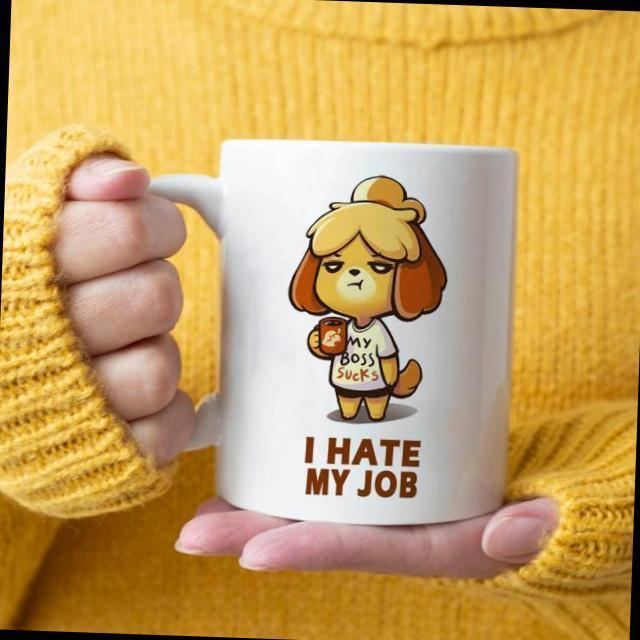taza: (110, 105, 528, 529)
